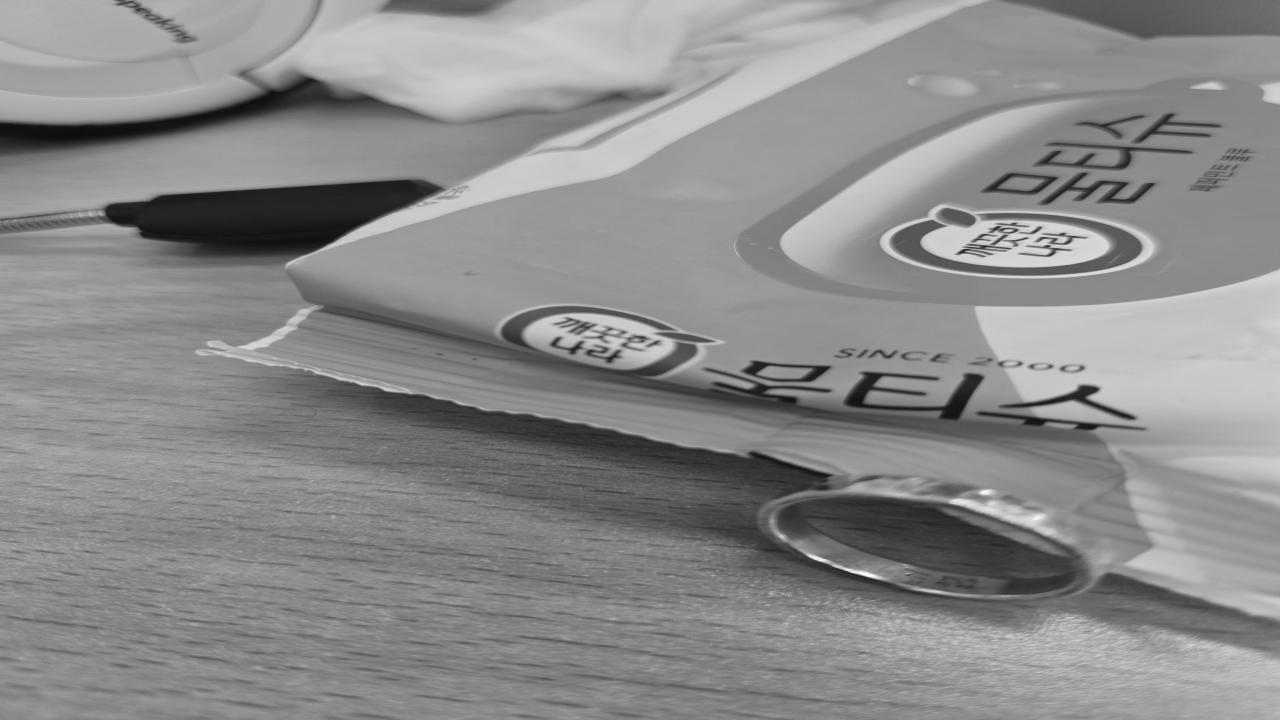ring: (752, 476, 1110, 603)
